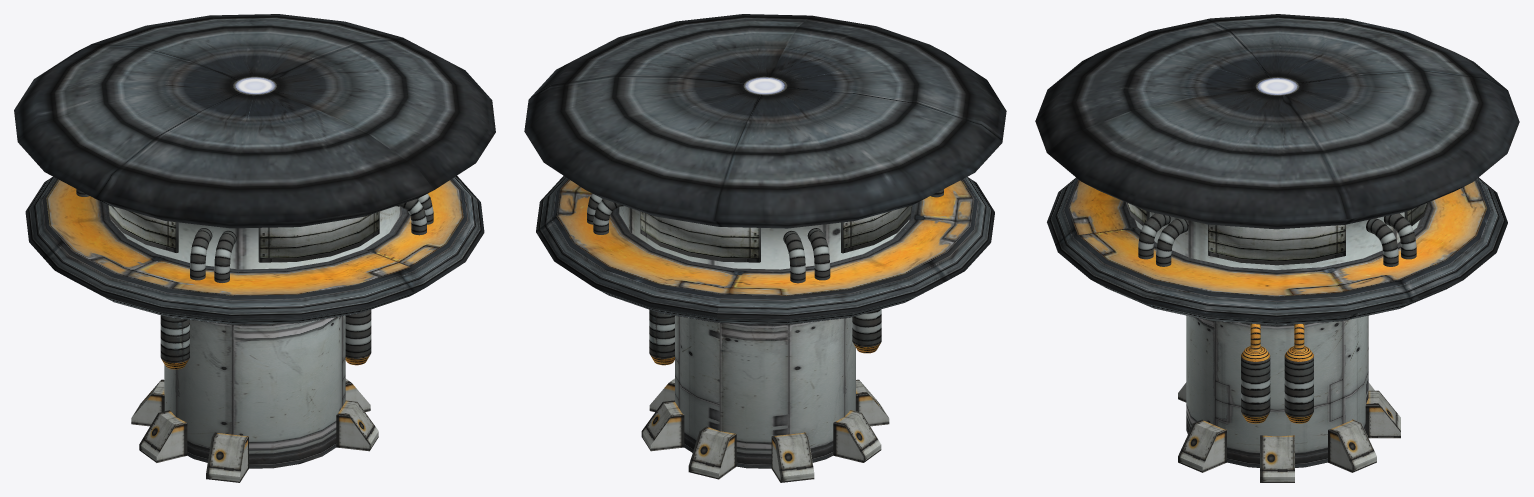
The model's file is predioredondo.fbx.
The picture shows the model from 3 angles, left to right: view 1: azimuth 30°, elevation 25°; view 2: azimuth 150°, elevation 25°; view 3: azimuth 270°, elevation 25°; orthographic projection.
Visible parts, largest first — view 1: Cylinder; view 2: Cylinder; view 3: Cylinder.
Part boxes in pixels (bbox=[...]): Cylinder: bbox=[14, 14, 495, 482]; Cylinder: bbox=[524, 14, 1006, 482]; Cylinder: bbox=[1035, 14, 1519, 482].
Bounding box in the file's own units: 15.5 × 12.16 × 15.5.
